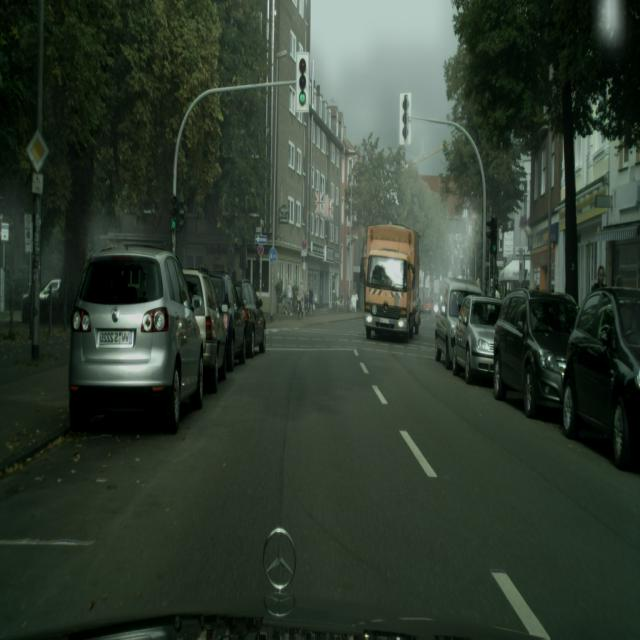person: (592, 264, 606, 289), (308, 285, 314, 314)
train: (362, 224, 422, 343)
truck: (68, 246, 205, 435), (561, 285, 640, 472), (492, 288, 578, 421), (182, 266, 227, 394), (452, 294, 503, 385), (434, 278, 483, 369), (210, 272, 247, 369), (236, 281, 267, 356), (21, 278, 62, 322), (421, 298, 433, 314)
